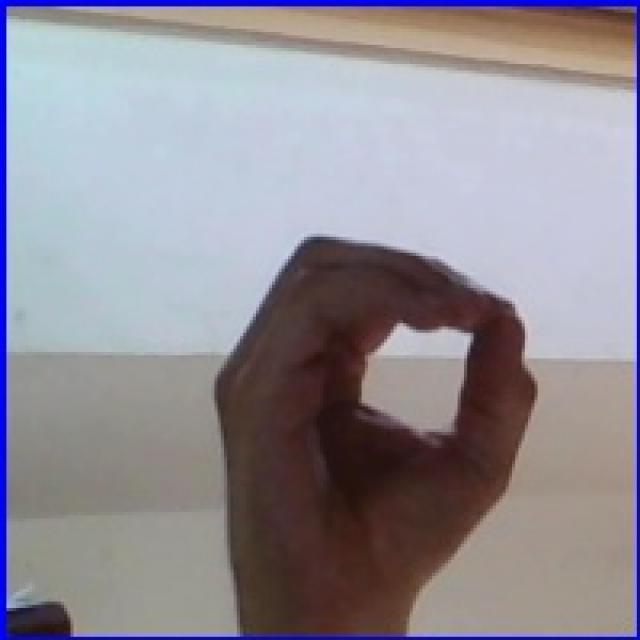Letra-O: (153, 210, 583, 640)
